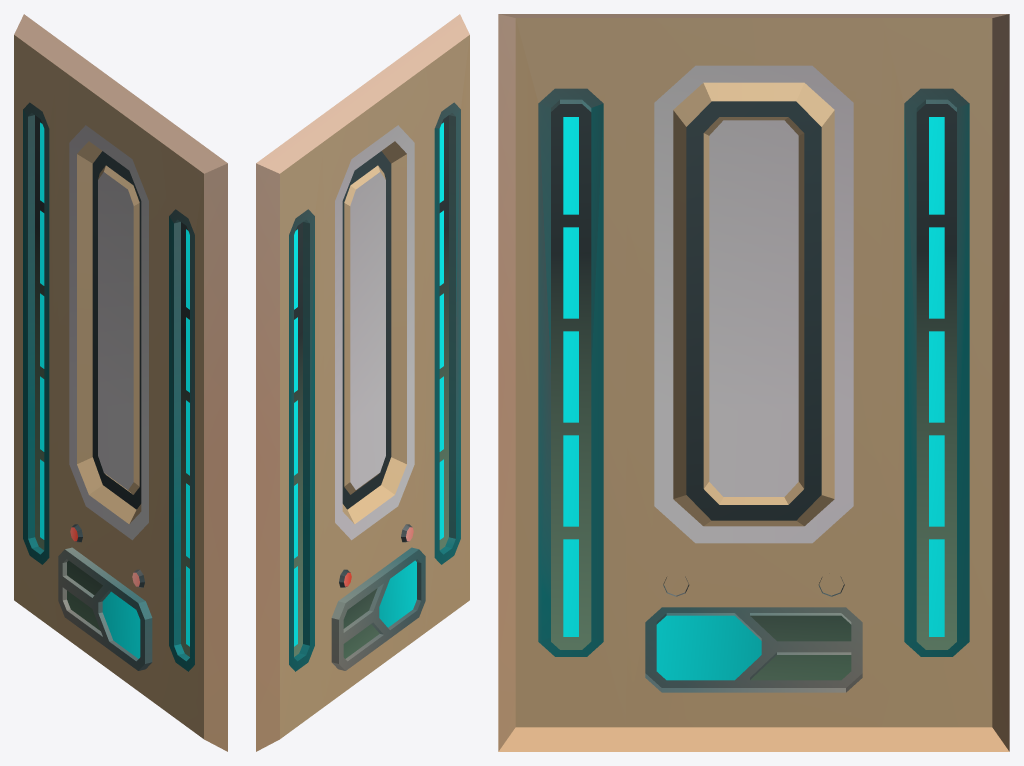
File: C_Wall_tapered_2.fbx
3 renders of one model, left to right at view 1: azimuth 30°, elevation 25°; view 2: azimuth 150°, elevation 25°; view 3: azimuth 270°, elevation 25°, orthographic. The views are drawn at different scales.
Parts seen in each view (by area): view 1: C_Wall_tapered_2; view 2: C_Wall_tapered_2; view 3: C_Wall_tapered_2.
Part boxes in pixels (x1,y1,x2,y2): C_Wall_tapered_2: (14, 14, 227, 751); C_Wall_tapered_2: (256, 14, 469, 751); C_Wall_tapered_2: (498, 14, 1009, 751).
Size of the model in its own units: 8.6 by 198 by 124.
